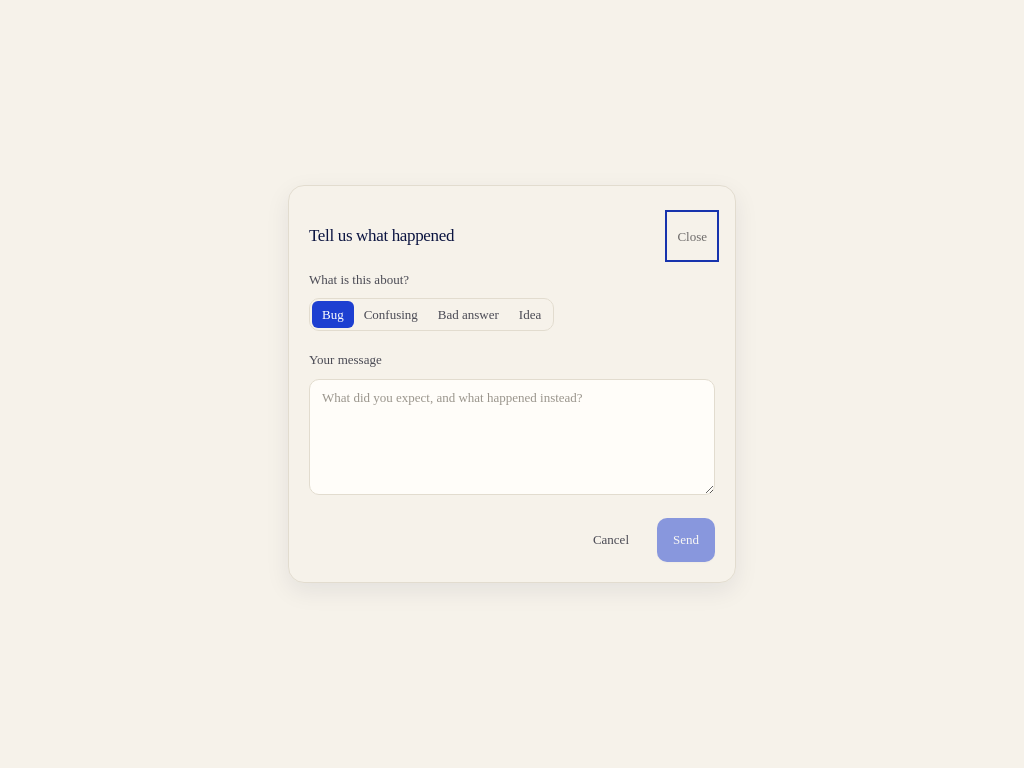
Test: FeedbackDialog › sends the kind, the message and the page, then says thank you
Click the radio button labelled "Bad answer": (468,315) [428,301,509,328]
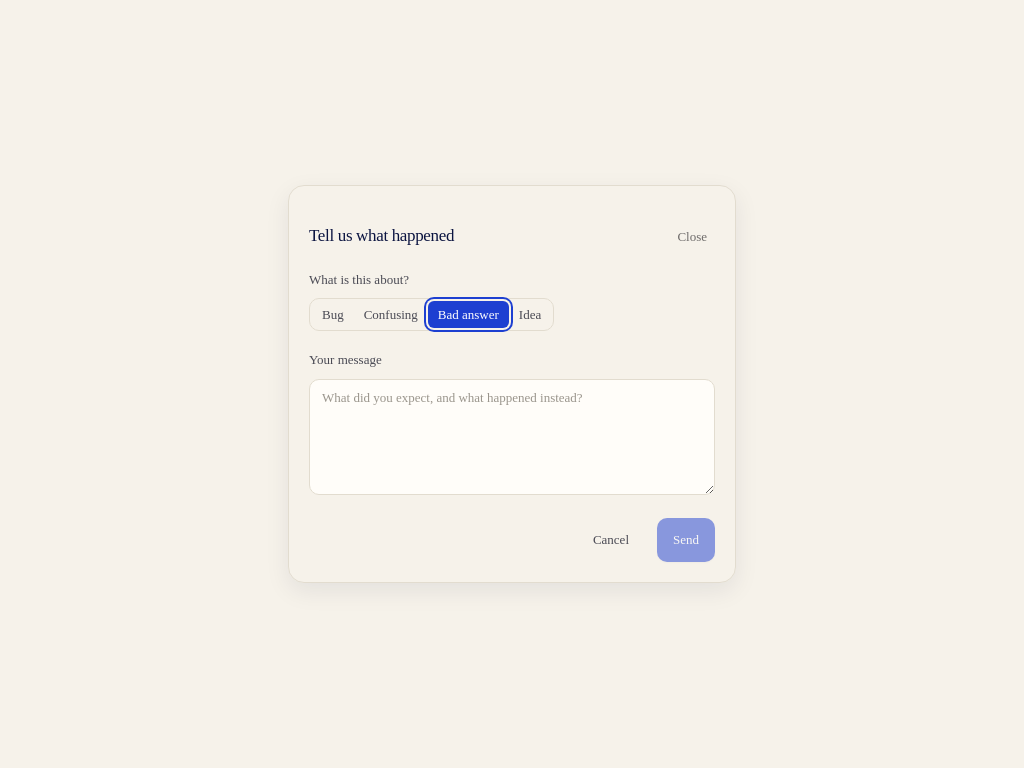
In the text box labelled "Your message": (512,437) [309,379,715,495], type "  Mino said 2 + 2 = 5  "
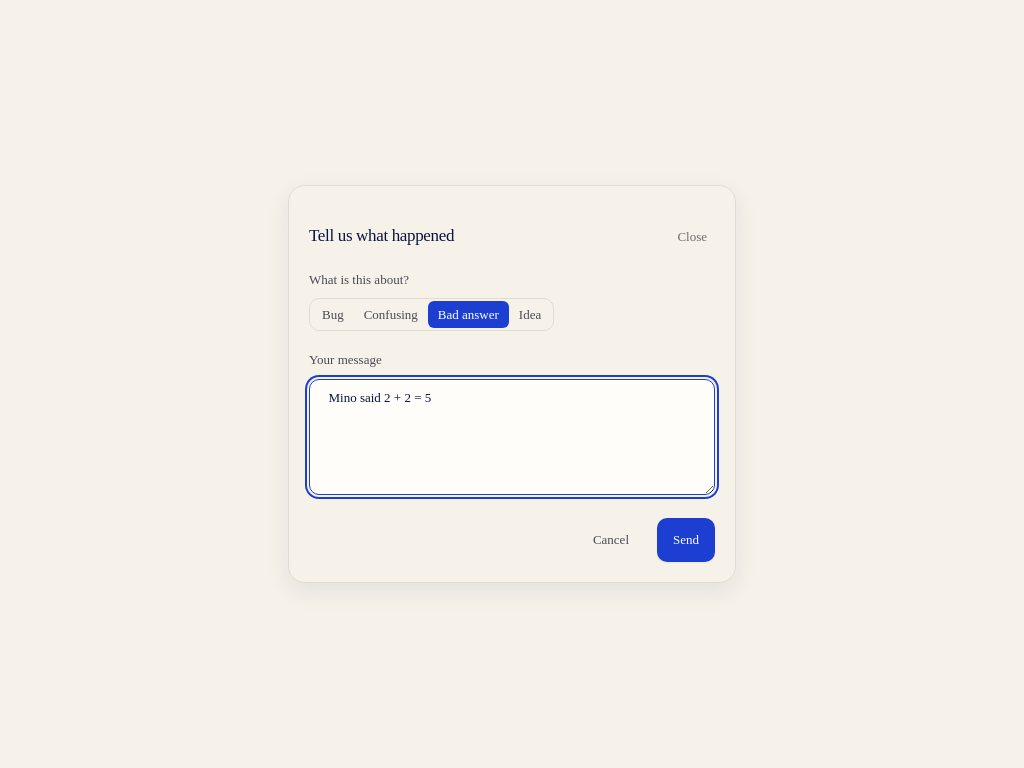
Click the button "Send": (686,540) [657,518,715,562]
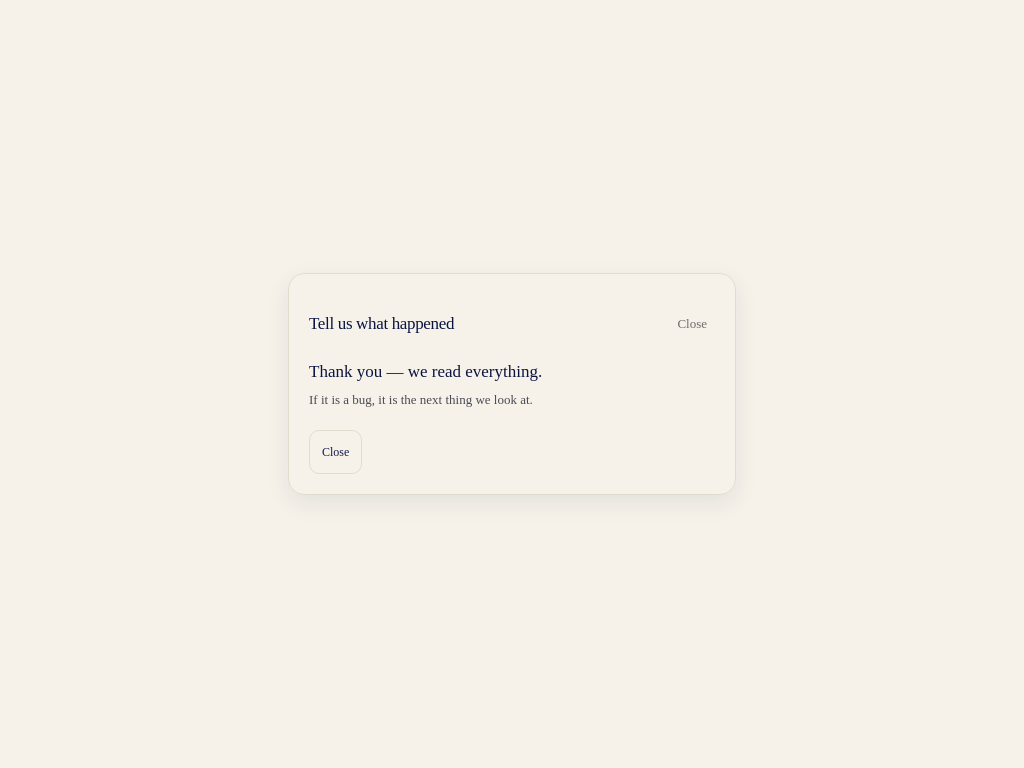
Expected: the text "Thank you — we read everything." is shown, [309,362,542,381]
